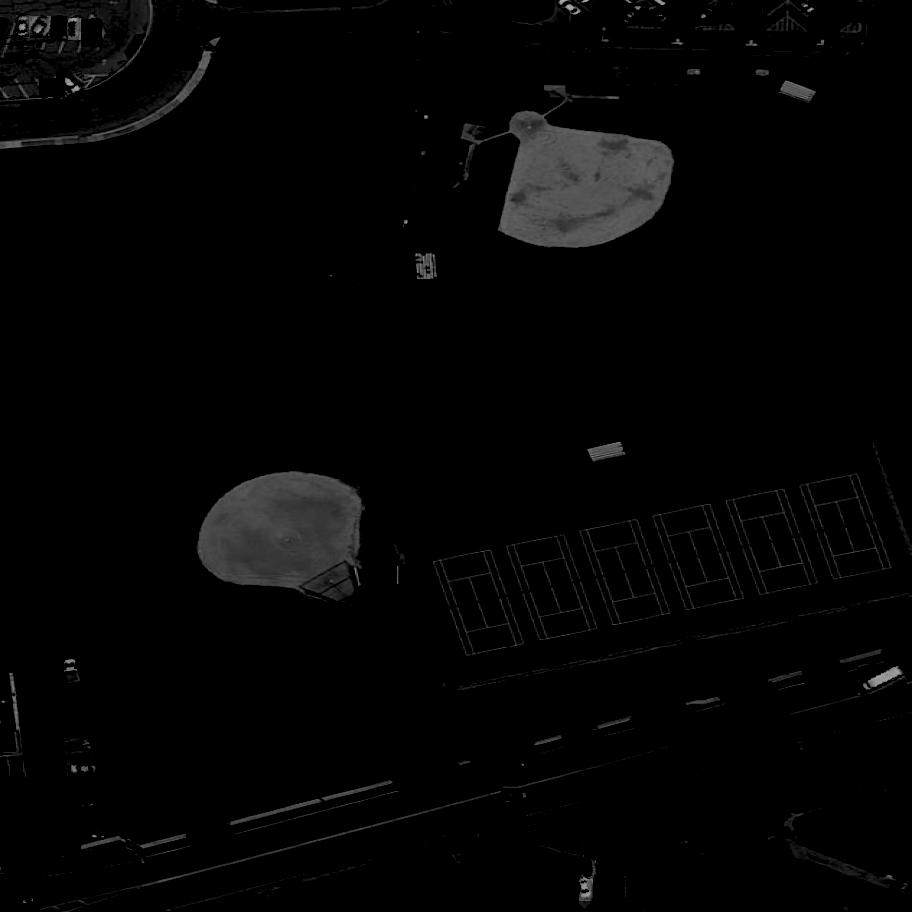small-vehicle: (859, 665, 906, 698), (56, 70, 84, 97), (621, 1, 648, 29), (841, 1, 871, 25), (646, 3, 672, 30), (81, 18, 105, 47), (60, 657, 83, 687), (39, 74, 65, 100), (64, 722, 94, 742), (10, 893, 41, 912), (715, 772, 735, 799), (30, 15, 52, 39), (694, 5, 716, 28), (66, 738, 94, 756), (716, 6, 741, 25), (579, 876, 594, 901), (16, 15, 32, 38), (51, 15, 67, 38), (73, 823, 101, 836), (67, 764, 97, 776), (69, 777, 99, 789), (71, 798, 97, 811), (584, 855, 598, 879), (502, 790, 530, 802), (22, 740, 37, 762), (69, 19, 83, 40), (74, 811, 98, 819)
